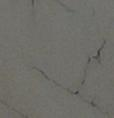termicas: (23, 32, 114, 118)
